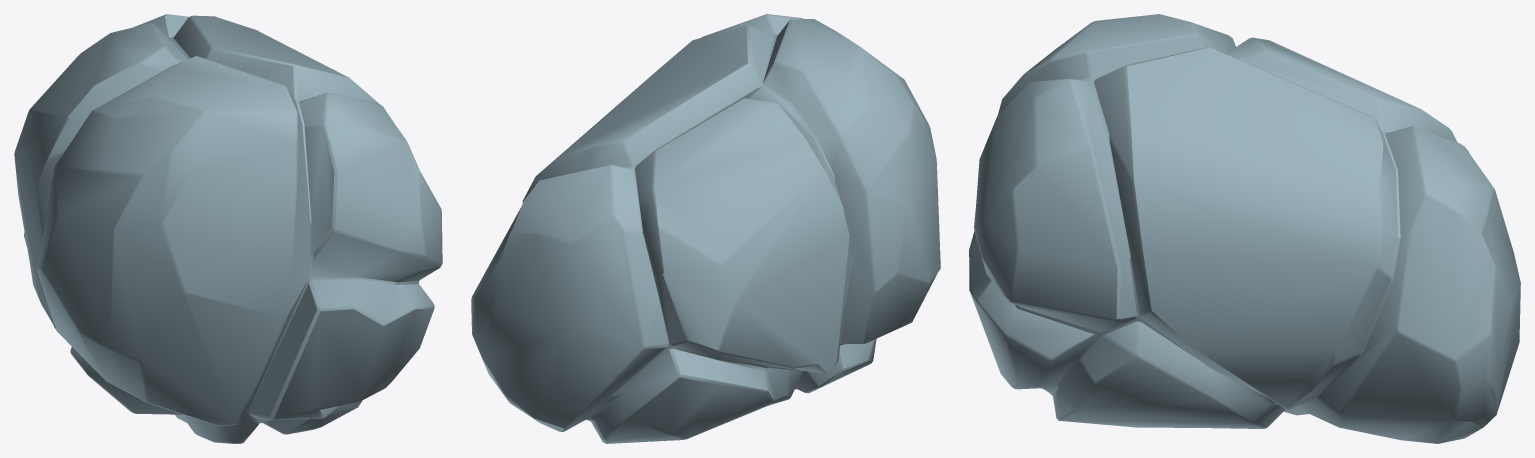
Rendered from Asteroid_01.fbx.
3 renders of one model, left to right at view 1: azimuth 30°, elevation 25°; view 2: azimuth 150°, elevation 25°; view 3: azimuth 270°, elevation 25°, orthographic. The views are drawn at different scales.
Visible parts, largest first — view 1: Asteroid_01; view 2: Asteroid_01; view 3: Asteroid_01.
Boxes of the visible parts, x1=… form: Asteroid_01: x1=14, y1=14, x2=442, y2=443; Asteroid_01: x1=471, y1=14, x2=940, y2=443; Asteroid_01: x1=969, y1=14, x2=1520, y2=443.
Size of the model in its own units: 156 by 151 by 204.
1 material, 1 textured.
